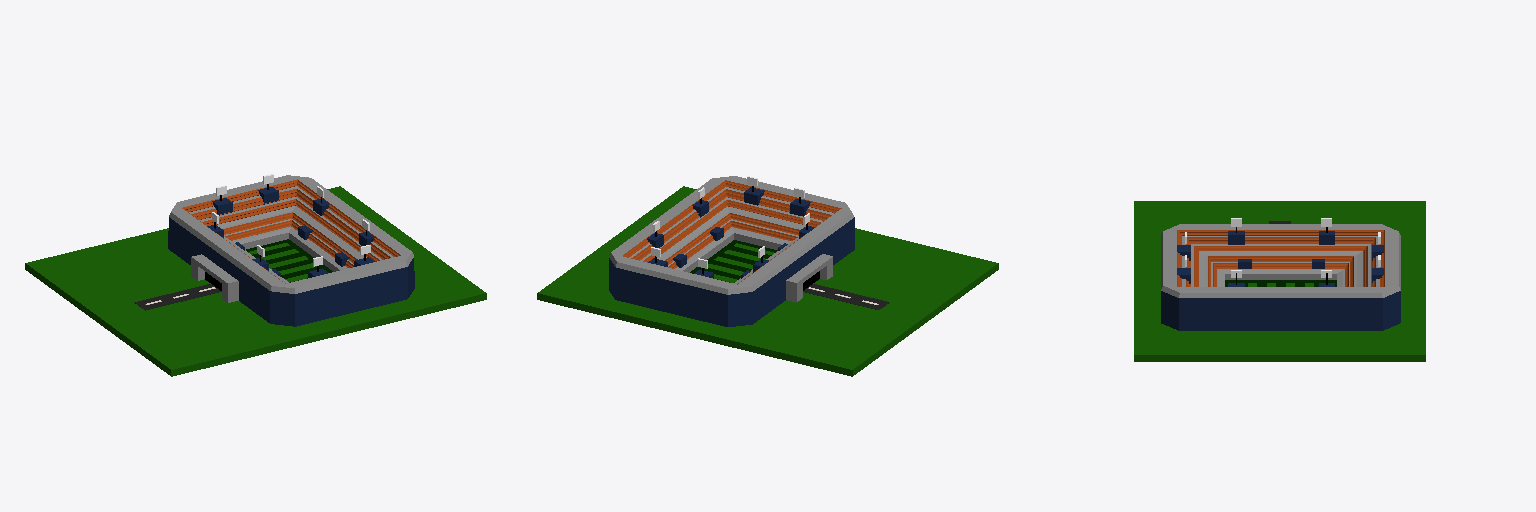
File: BallPark_1244.obj
The picture shows the model from 3 angles: view 1: azimuth 30°, elevation 25°; view 2: azimuth 150°, elevation 25°; view 3: azimuth 270°, elevation 25°; orthographic projection.
Visible parts, largest first — view 1: Box007; view 2: Box007; view 3: Box007.
Boxes of the visible parts, x1=… form: Box007: x1=25, y1=174, x2=486, y2=376; Box007: x1=537, y1=176, x2=998, y2=376; Box007: x1=1134, y1=201, x2=1425, y2=361.
Bounding box in the file's own units: 214 × 37.54 × 172.